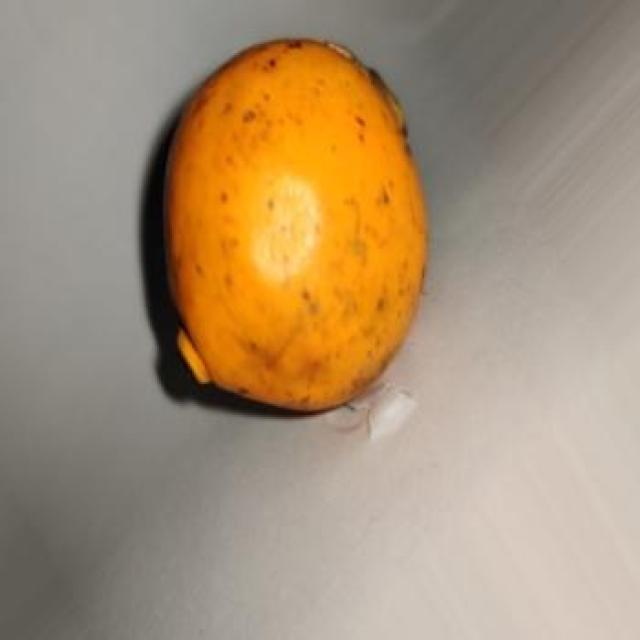good: (159, 38, 430, 415)
